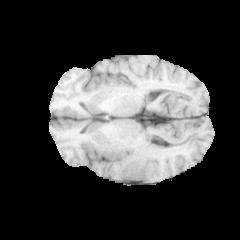glioma: (93, 139, 181, 176)
